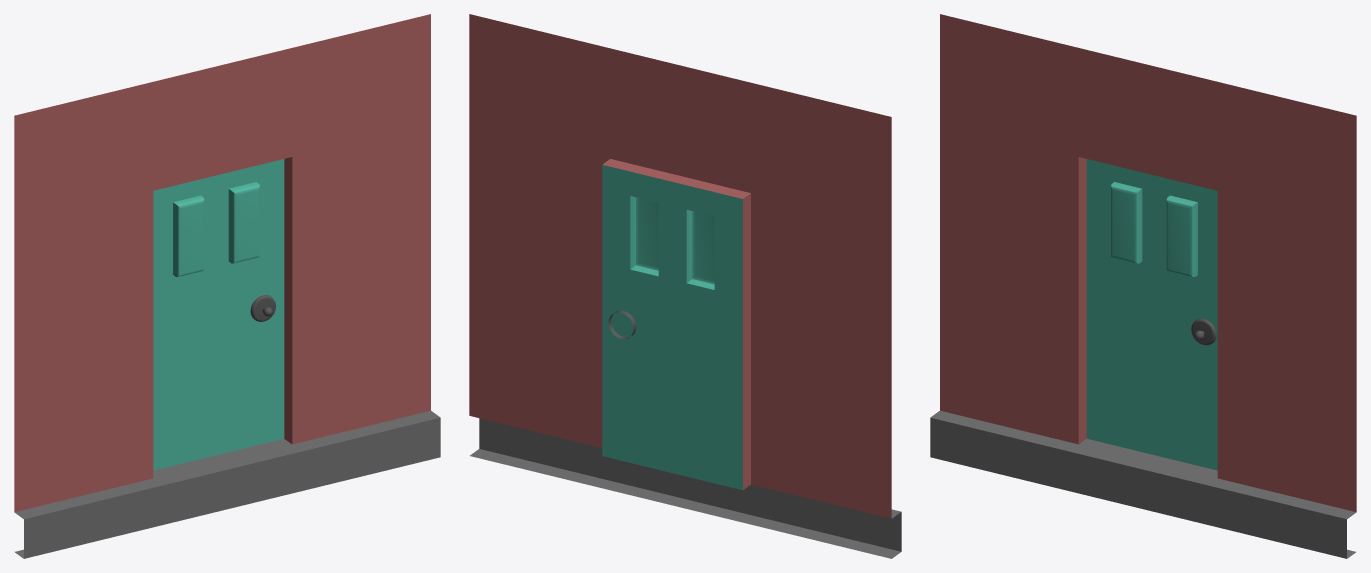
File: Wall_Door_TEST.fbx
3 views of the same model, side by side, from view 1: azimuth 30°, elevation 25°; view 2: azimuth 150°, elevation 25°; view 3: azimuth 330°, elevation 25° (orthographic).
Visible parts, largest first — view 1: Wall_Door_02; view 2: Wall_Door_02; view 3: Wall_Door_02.
Boxes of the visible parts, box(x1,y1,x2,y2) form: Wall_Door_02: box(14, 14, 440, 558); Wall_Door_02: box(469, 14, 901, 558); Wall_Door_02: box(930, 14, 1356, 558).
Size of the model in its own units: 4 by 4 by 0.3372.
